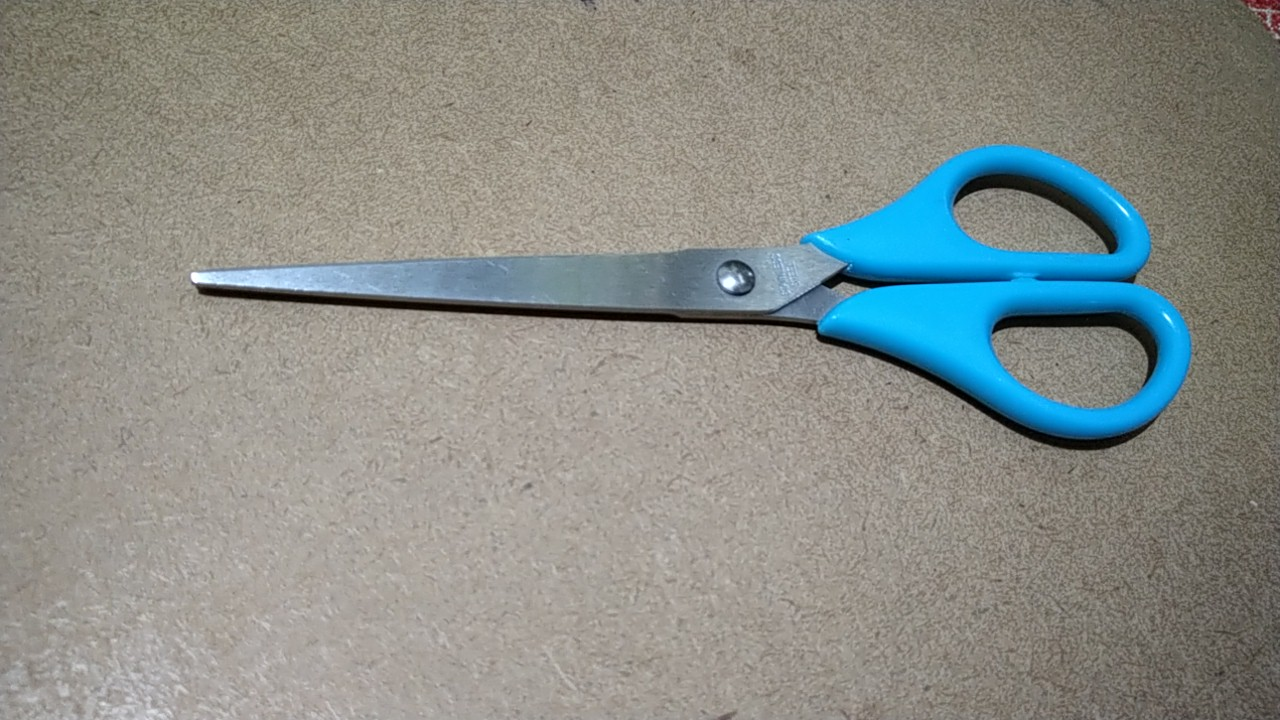scissor: (184, 127, 1205, 518)
